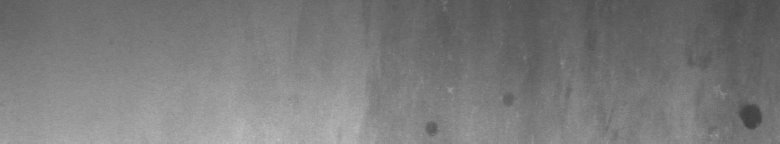fi: (688, 54, 767, 136)
